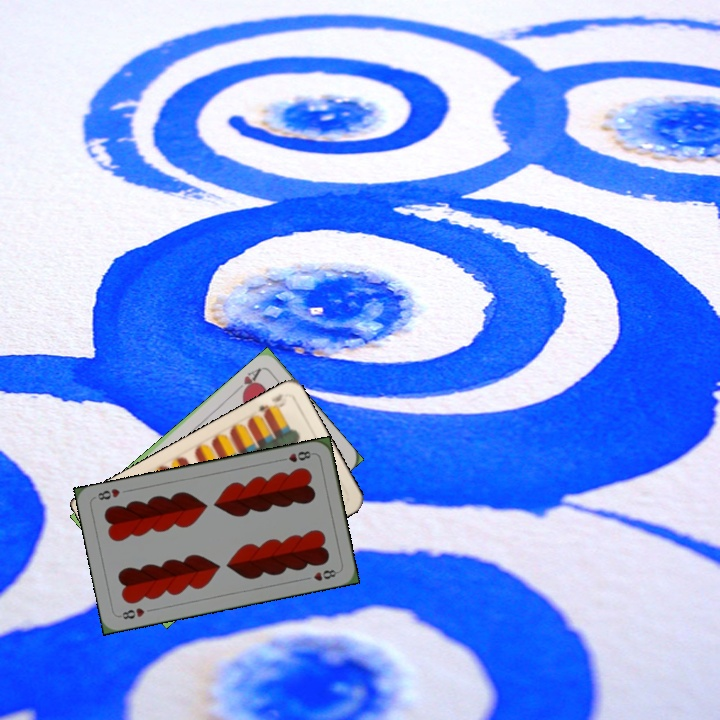E10: (254, 389, 290, 419)
H8: (276, 447, 316, 465), (115, 604, 147, 622)
HA: (231, 364, 264, 397)
